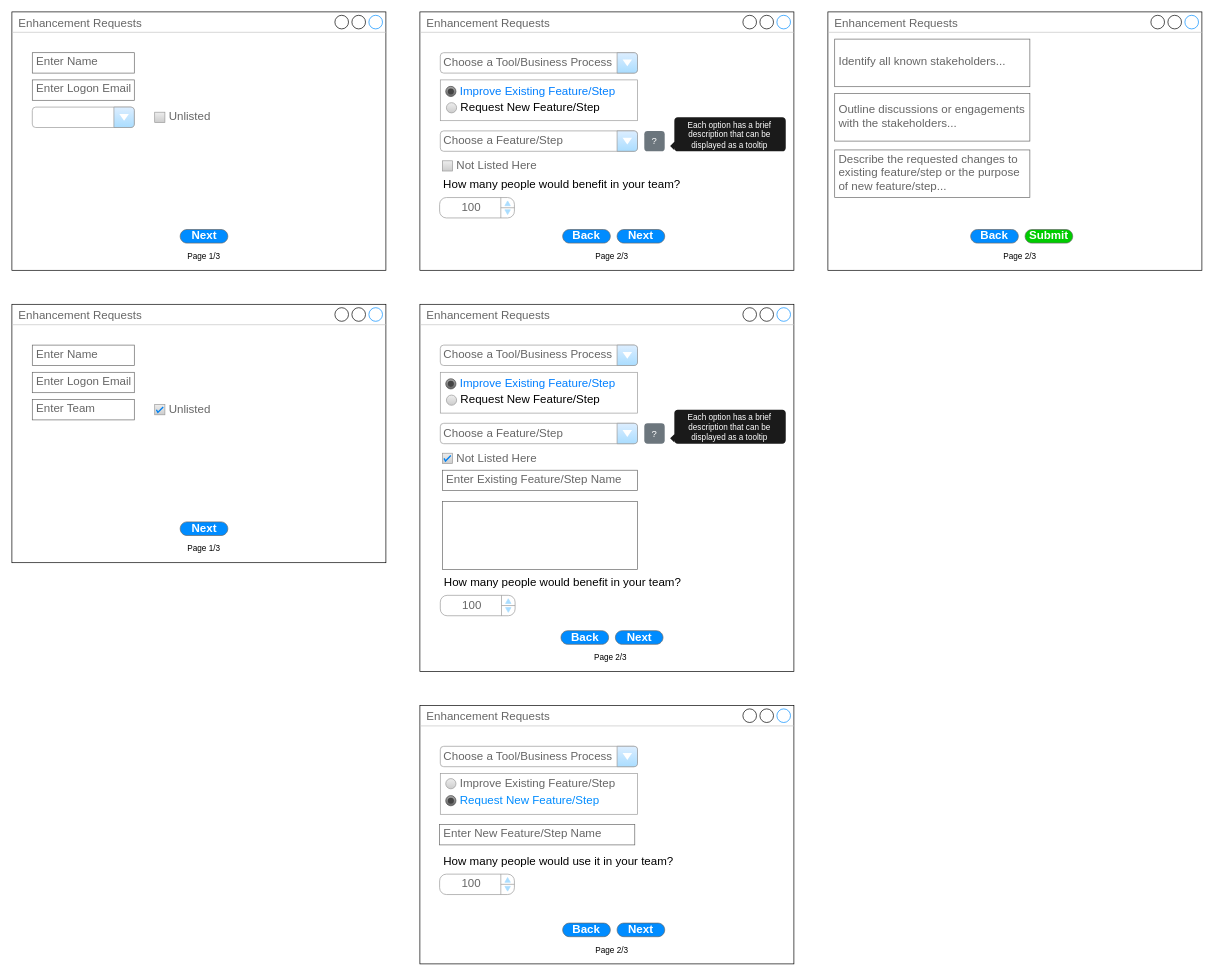
Image size: 1214x976. Some labels were removed from this diagram. Each missing label, with the centre of its shape:
"Choose Team" goes at point (83, 117).
"Write Brief Description..." goes at point (540, 535).
